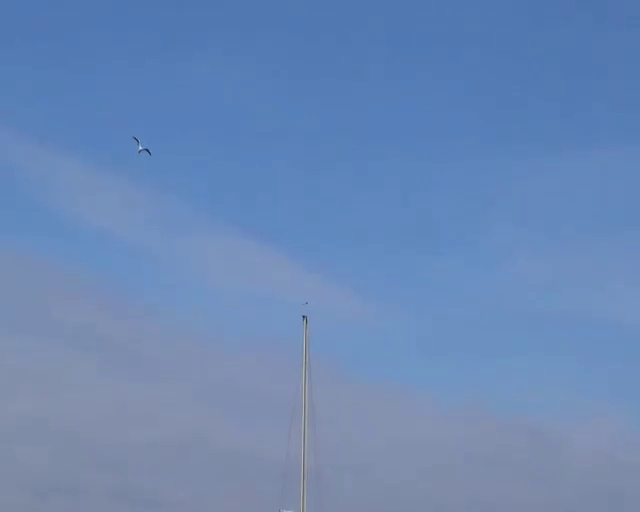BIRD: (132, 135, 151, 156)
